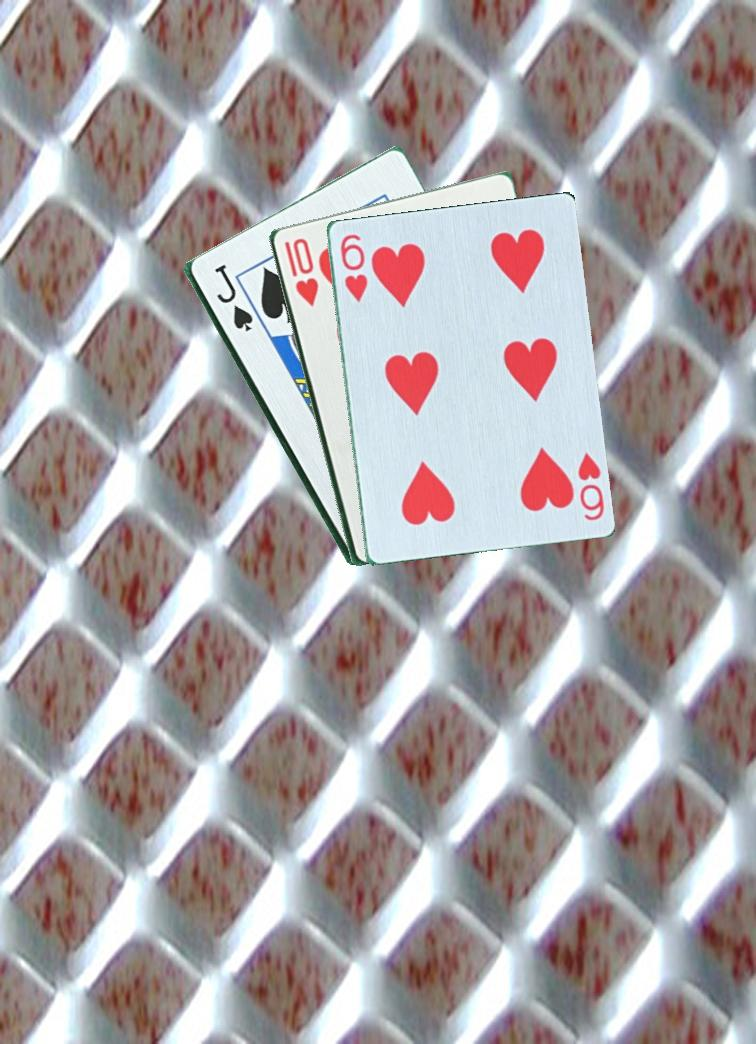6h: (336, 230, 370, 305), (574, 448, 607, 523)
js: (210, 262, 255, 334)
th: (280, 234, 321, 310)
